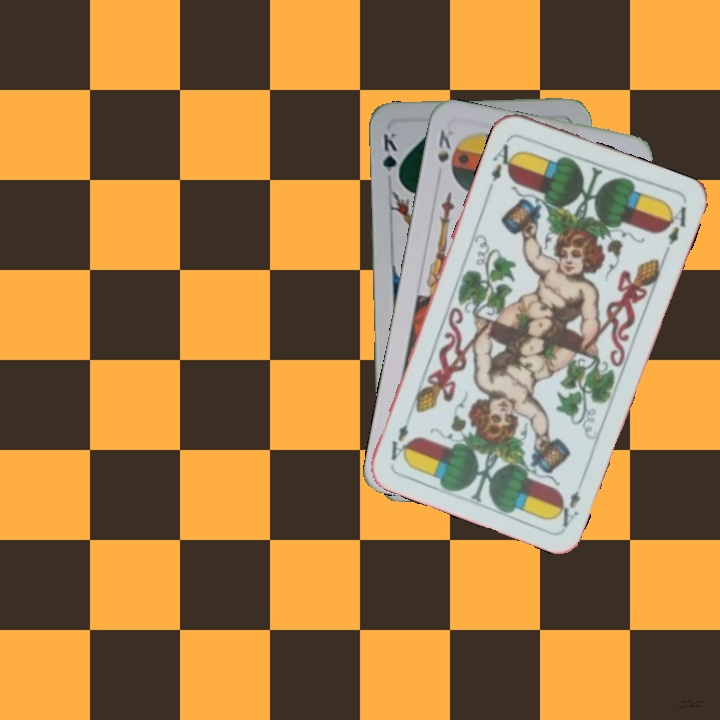EA: (485, 135, 520, 192), (551, 473, 585, 530)
GK: (378, 128, 402, 185)
SK: (433, 125, 454, 165)
